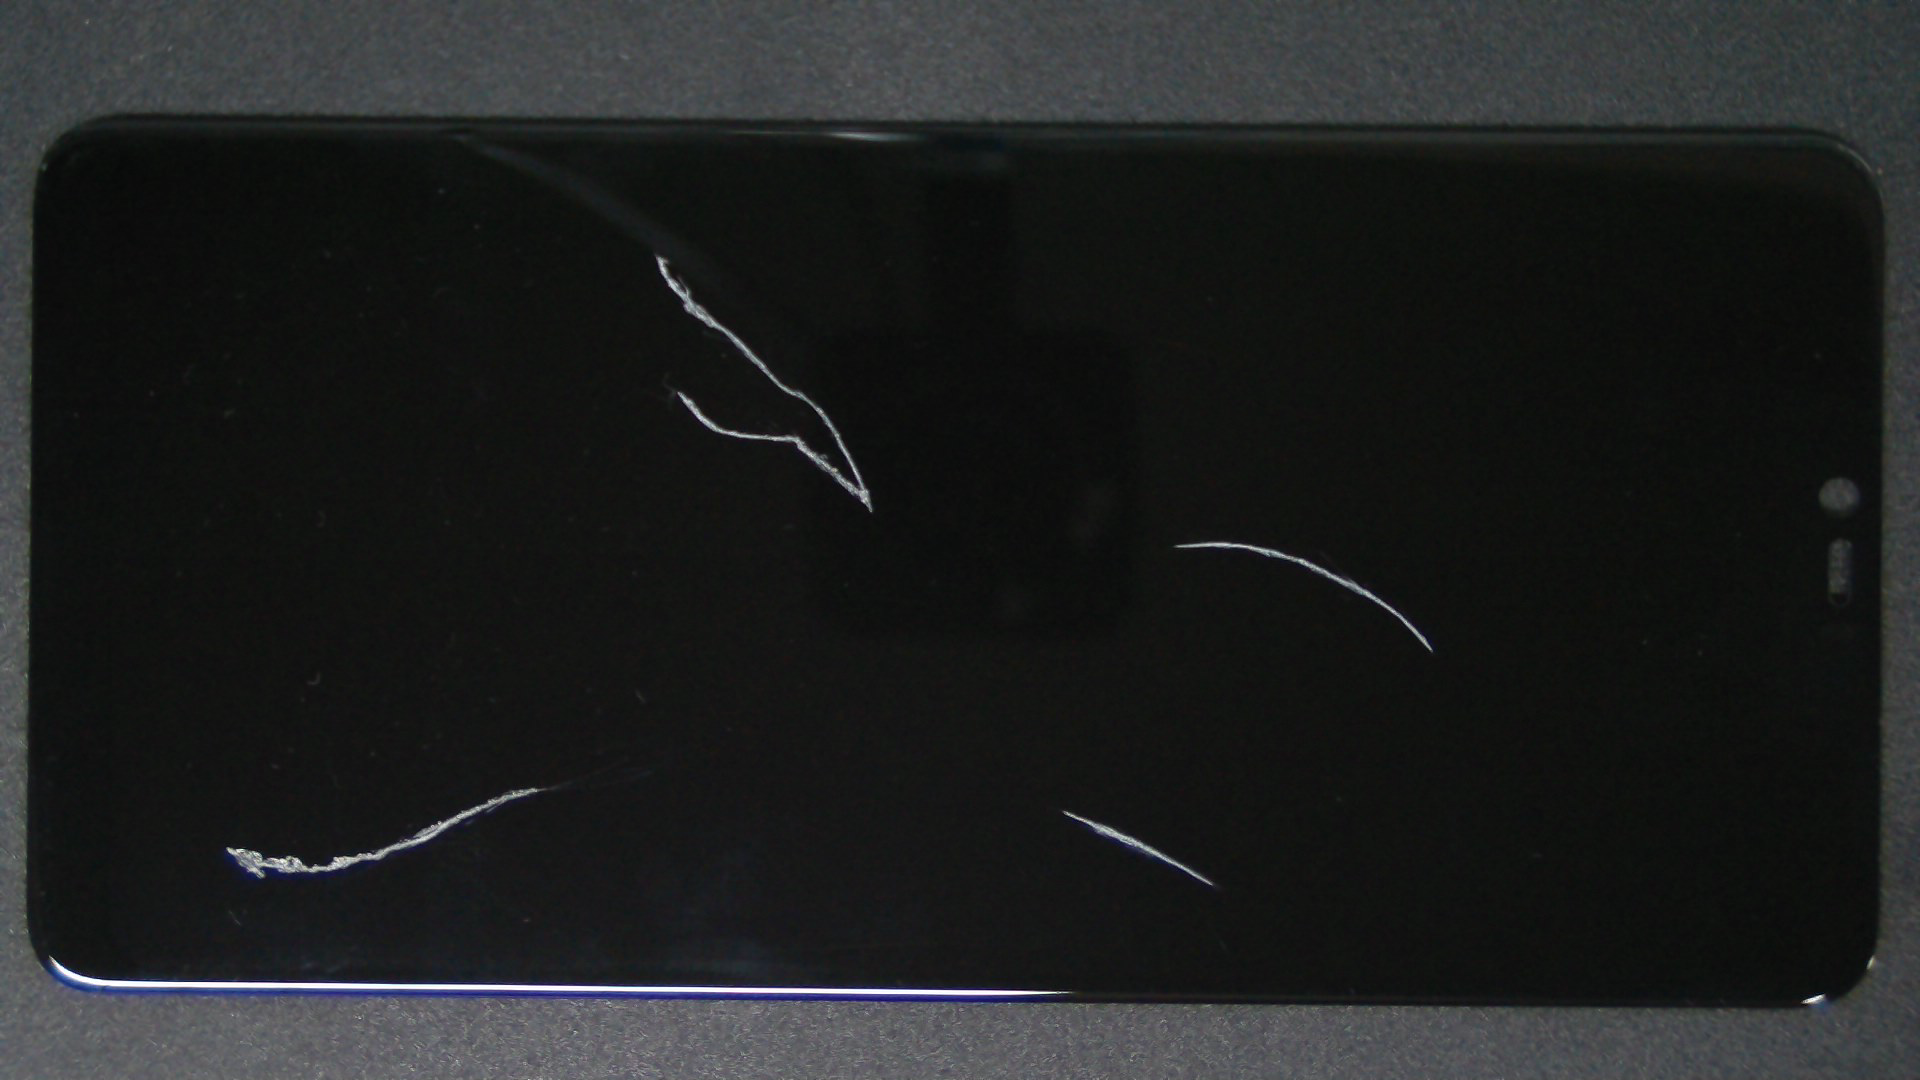defect: (654, 255, 873, 514), (225, 786, 555, 880), (1172, 541, 1433, 654), (1062, 810, 1215, 886)
